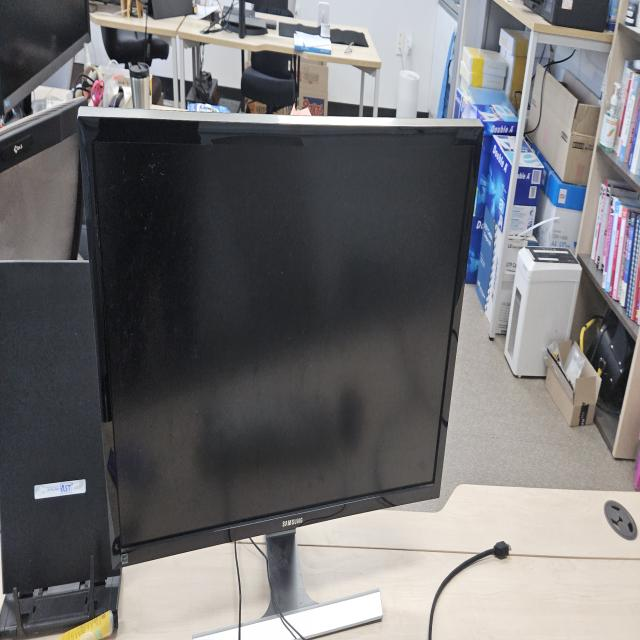Monitor: (75, 100, 485, 630)
